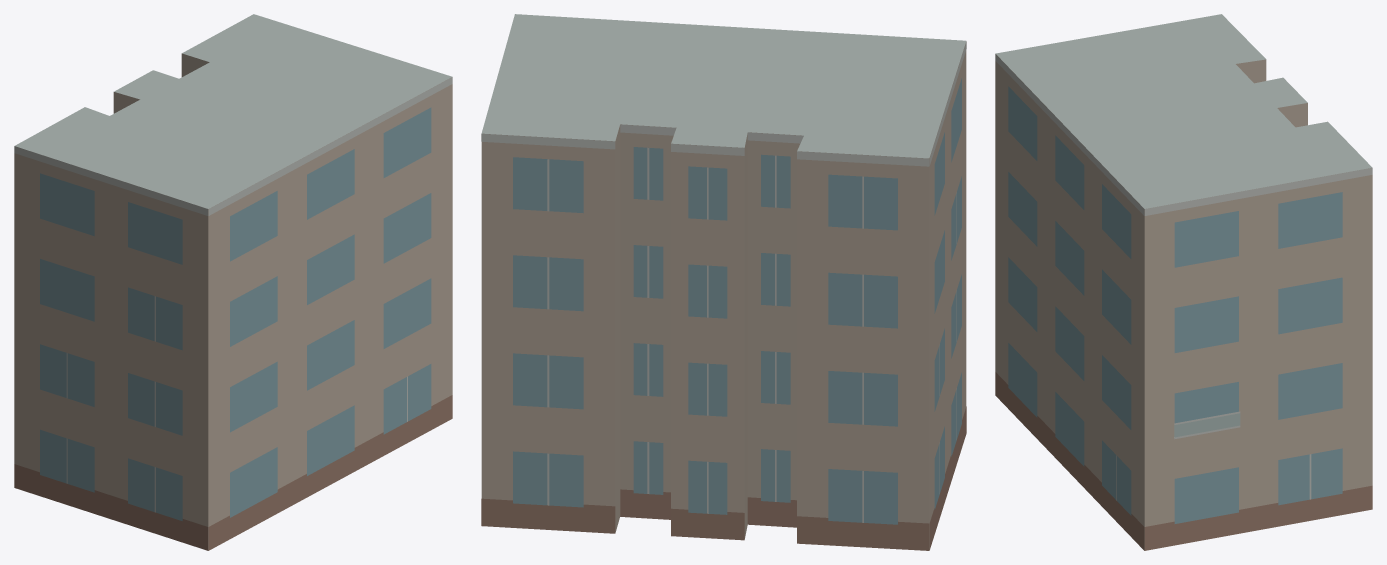
Rendered from survey-upis-32853826.glb.
3 views of the same model, side by side, from view 1: azimuth 30°, elevation 25°; view 2: azimuth 150°, elevation 25°; view 3: azimuth 270°, elevation 25° (orthographic). The views are drawn at different scales.
Visible parts, largest first — view 1: survey-upis-32853826.tmp; view 2: survey-upis-32853826.tmp; view 3: survey-upis-32853826.tmp.
Boxes of the visible parts, x1=… form: survey-upis-32853826.tmp: x1=14, y1=14, x2=452, y2=550; survey-upis-32853826.tmp: x1=481, y1=14, x2=966, y2=550; survey-upis-32853826.tmp: x1=995, y1=14, x2=1372, y2=550.
Size of the model in its own units: 14.33 by 11.7 by 11.71.
